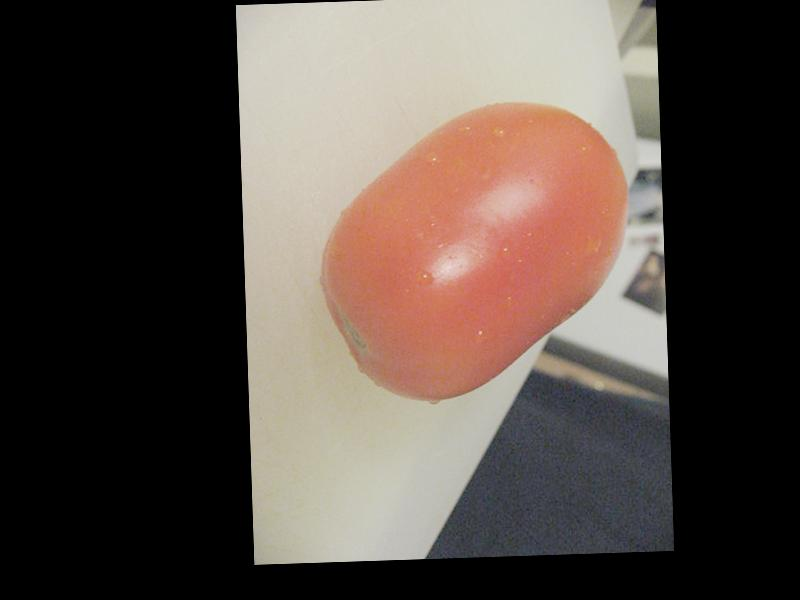Tomato: (317, 99, 636, 405)
